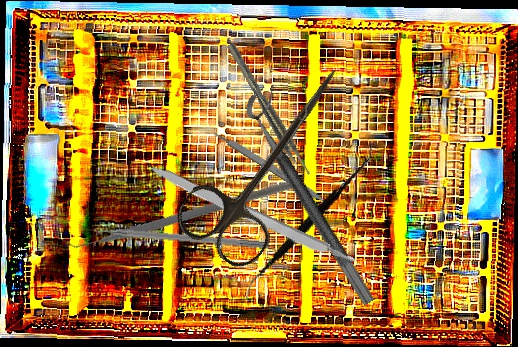Chopper: (55, 83, 303, 337)
Fixation Ring: (240, 85, 392, 307)
Iris Scissors: (169, 41, 370, 276)
Pusher: (77, 222, 270, 250)
Scalpel Handle: (143, 160, 357, 271), (210, 126, 331, 207)
Spatula Surgical: (244, 125, 374, 316)
Tissue Forceps: (226, 39, 312, 180)
